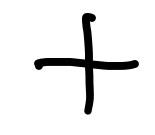plus: (32, 11, 139, 114)
